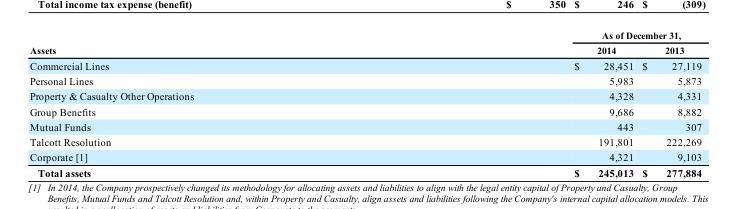table: (29, 29, 701, 178)
table column: (29, 29, 383, 178), (383, 29, 637, 178), (637, 29, 701, 178)
table column header: (29, 29, 701, 57)
table row: (29, 57, 701, 73), (29, 133, 701, 149), (29, 42, 701, 57), (29, 73, 701, 88), (29, 88, 701, 103), (29, 103, 701, 118), (29, 118, 701, 133), (29, 149, 701, 164), (29, 164, 701, 178), (29, 29, 701, 42)
table spanning cell: (29, 29, 383, 57), (383, 29, 701, 42)
